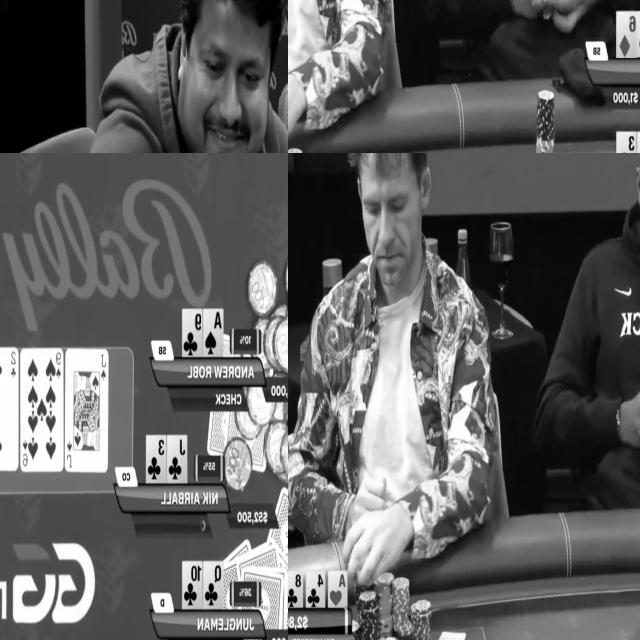3C: (147, 436, 165, 482), (616, 131, 636, 153)
4C: (306, 570, 325, 608)
6D: (616, 11, 637, 58)
8C: (288, 571, 302, 608)
9C: (183, 310, 201, 355)
AH: (328, 570, 347, 608)
AS: (204, 310, 223, 355)
JC: (168, 436, 186, 481)
QC: (204, 563, 222, 608)
